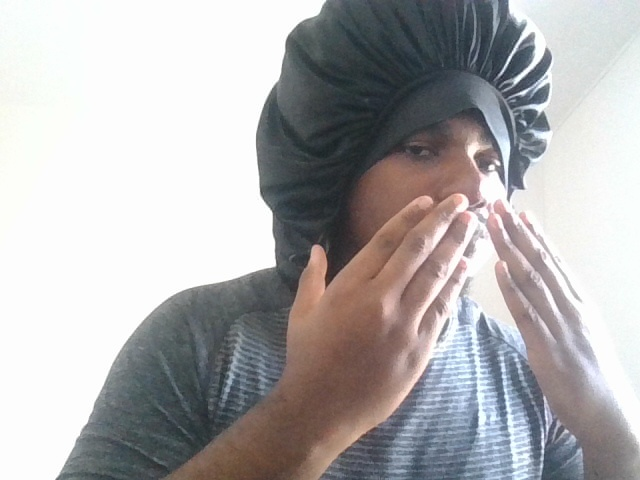Thank You: (261, 194, 640, 423)
